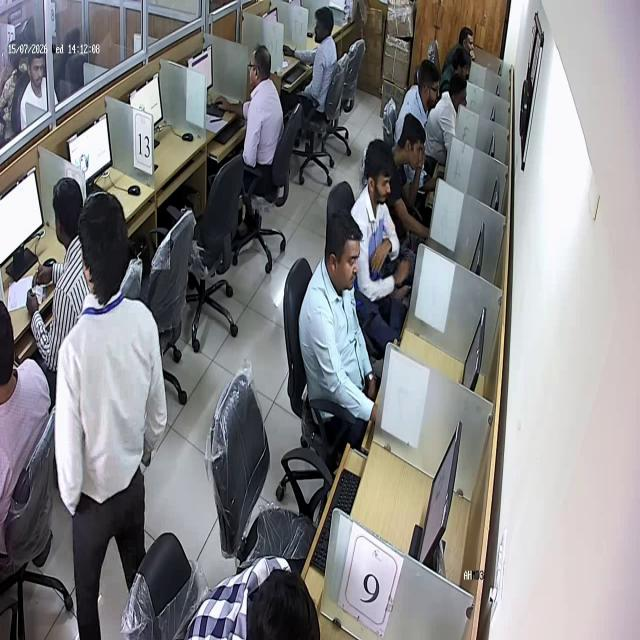paper-chit: (32, 283, 44, 304)
